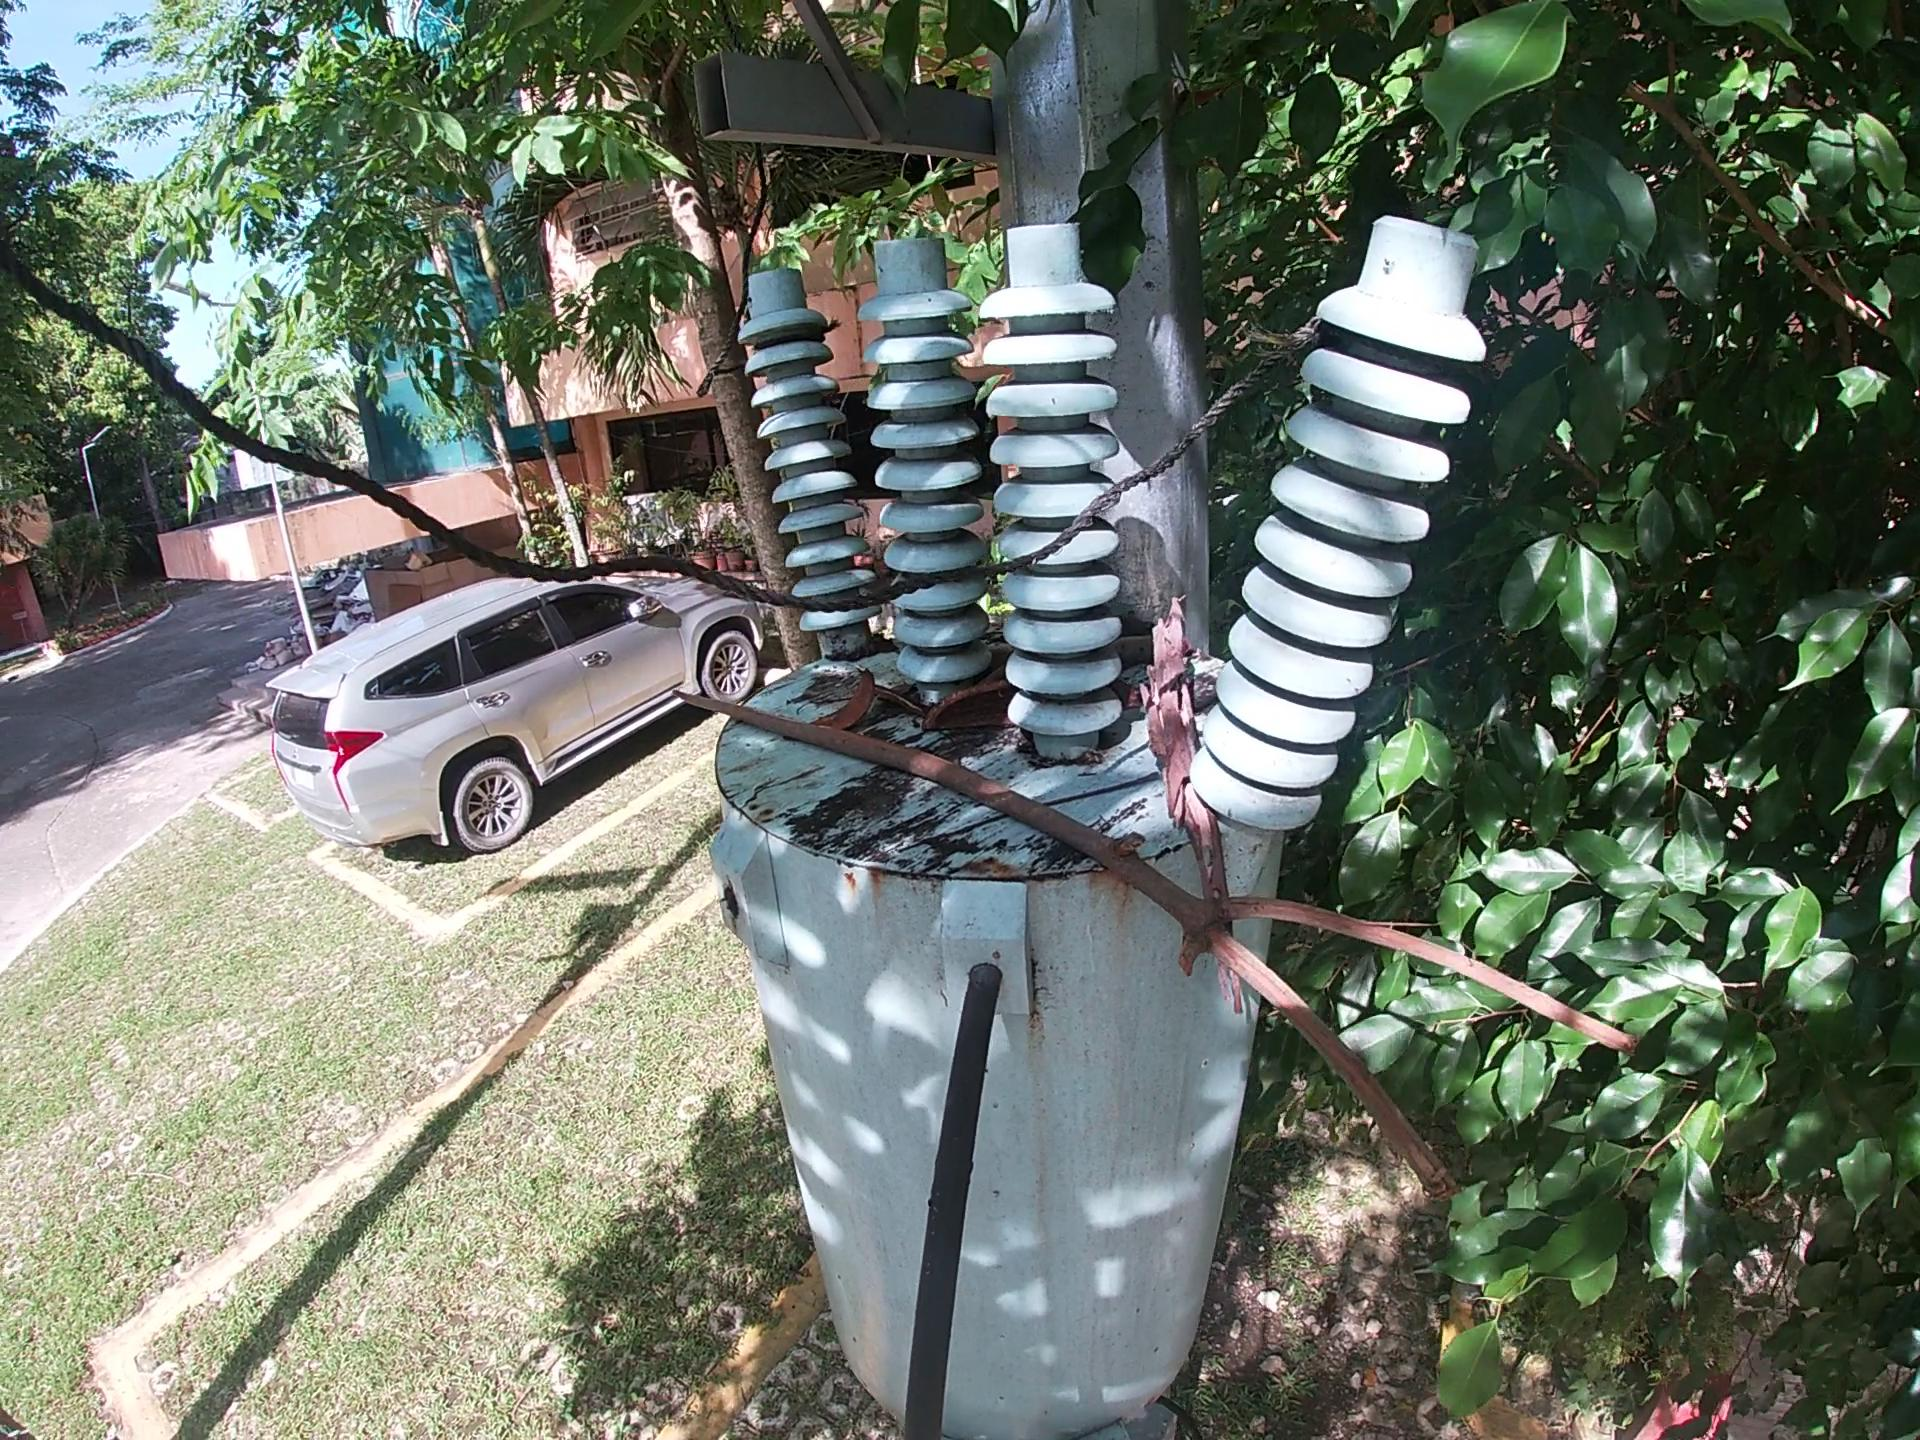mahogany fruit: (928, 679, 1020, 729), (818, 669, 887, 725)
tree branch: (676, 693, 1633, 1195), (1138, 601, 1252, 1004), (889, 771, 1157, 871), (875, 681, 910, 717), (974, 637, 1011, 664), (1123, 632, 1155, 659)
